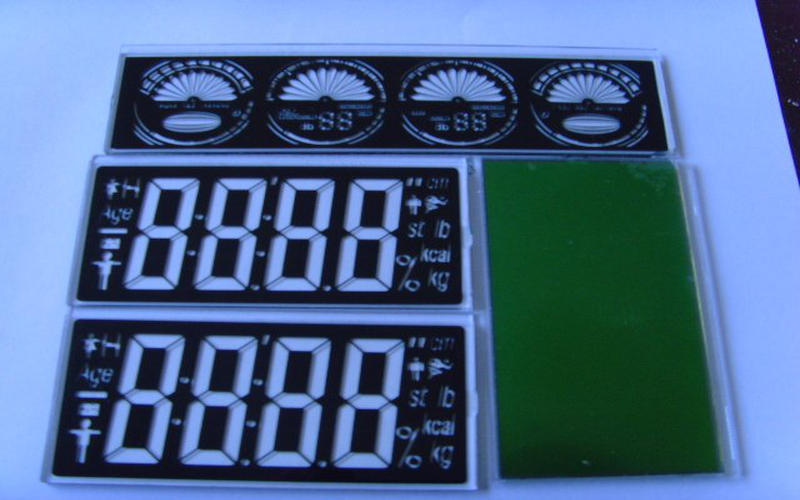LCD: (42, 26, 763, 492)
